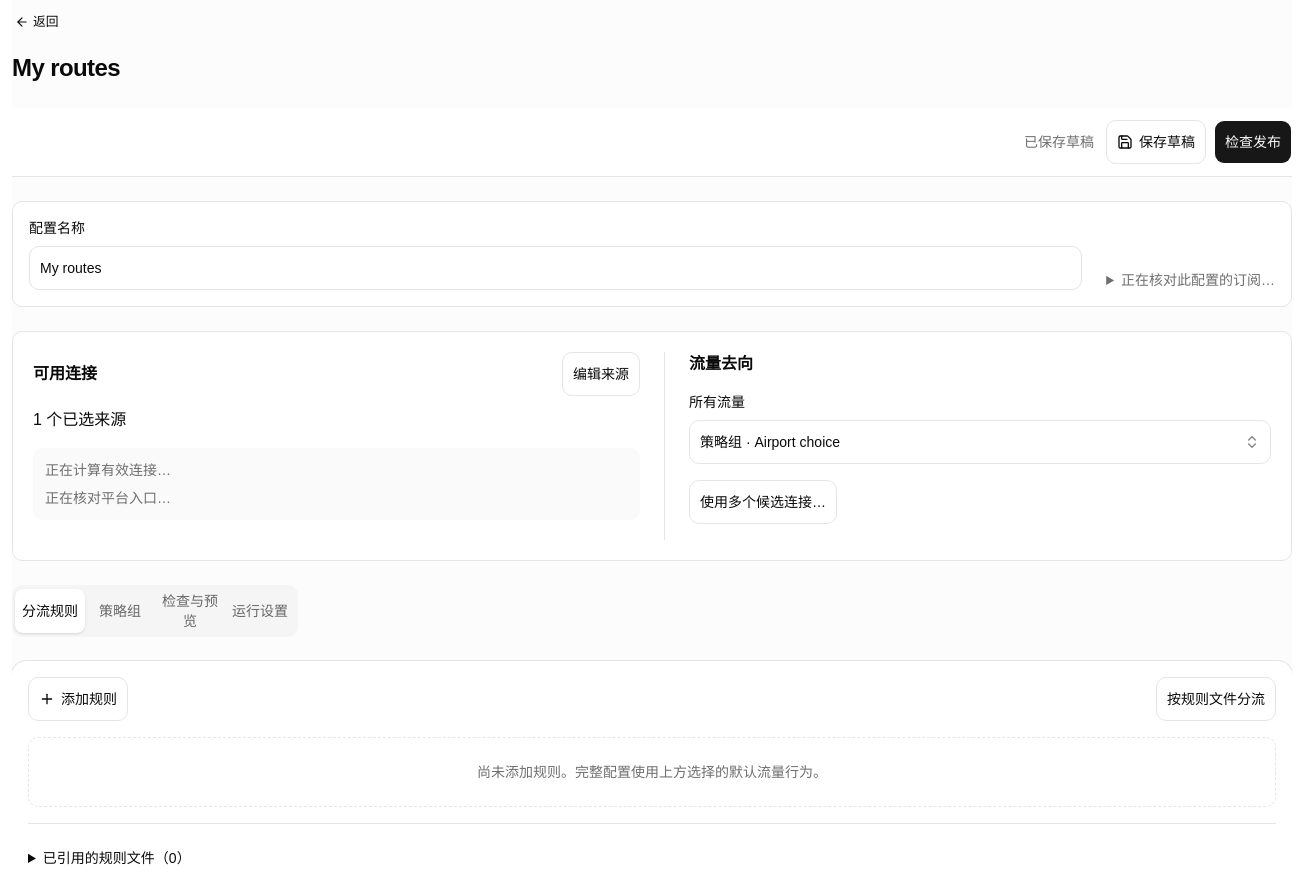
it: retains exact fixed references and independent policy parameters while toggling automatic members
Press the mouse on the tab "策略组" at (120, 611), box [85, 589, 155, 633]
(page scrolled)
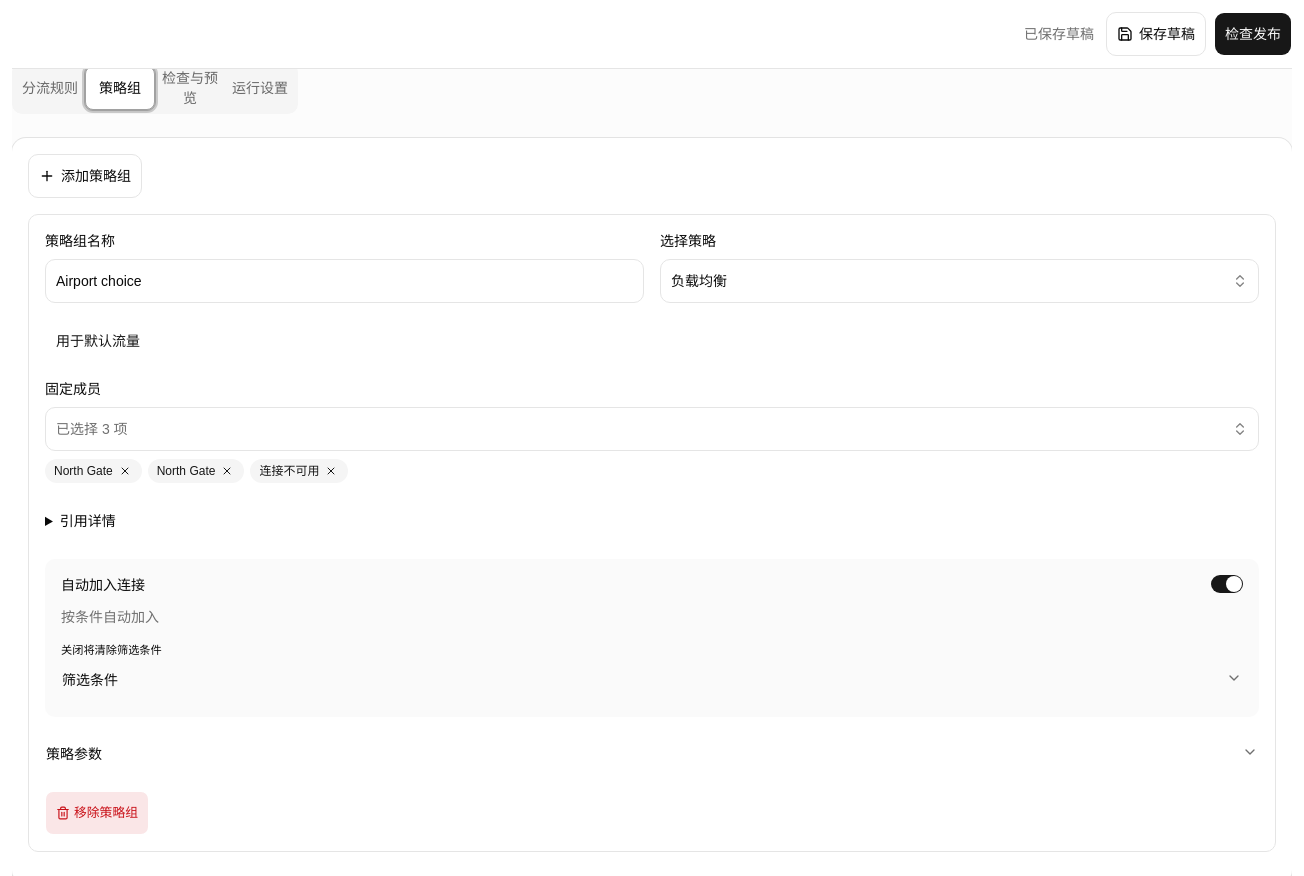
Click the switch named "自动加入连接" at (1227, 584), box [1211, 575, 1243, 593]
(page scrolled)
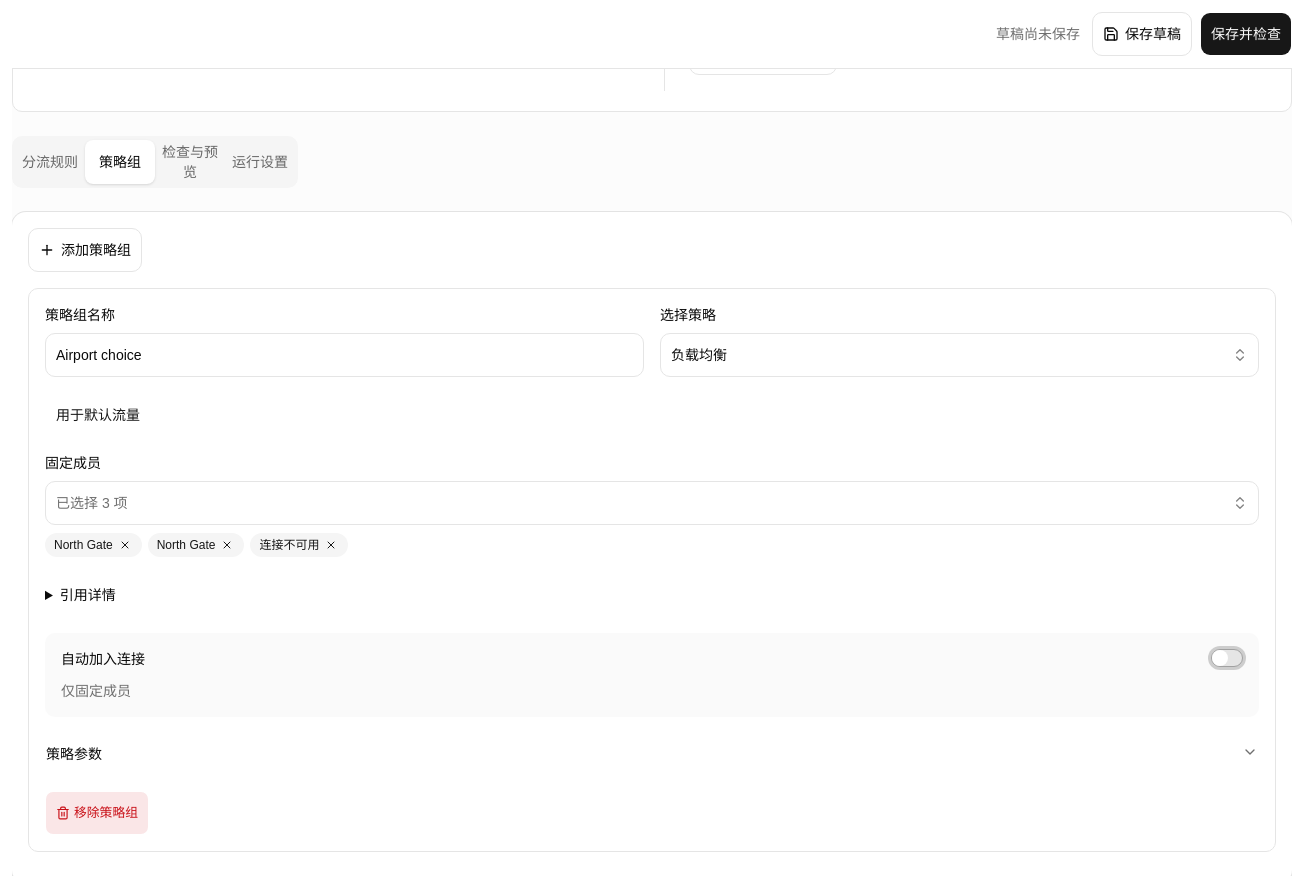
Click the button "策略参数" at (74, 754), box [45, 733, 1259, 775]
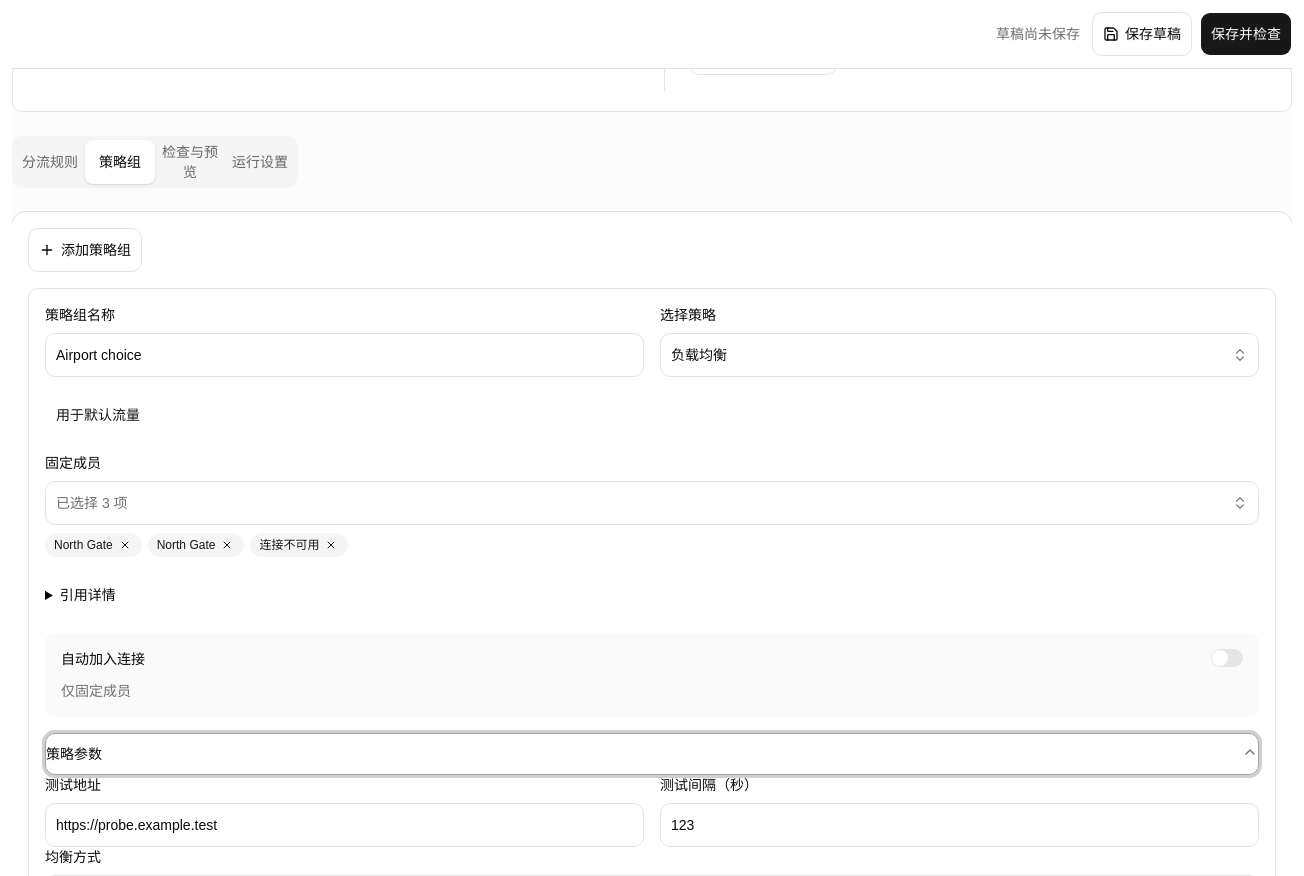
Expected: the field labelled "测试地址" holds "https://probe.example.test", [45, 803, 644, 847]
Click the button "保存草稿" at (1142, 34), box [1092, 12, 1192, 56]
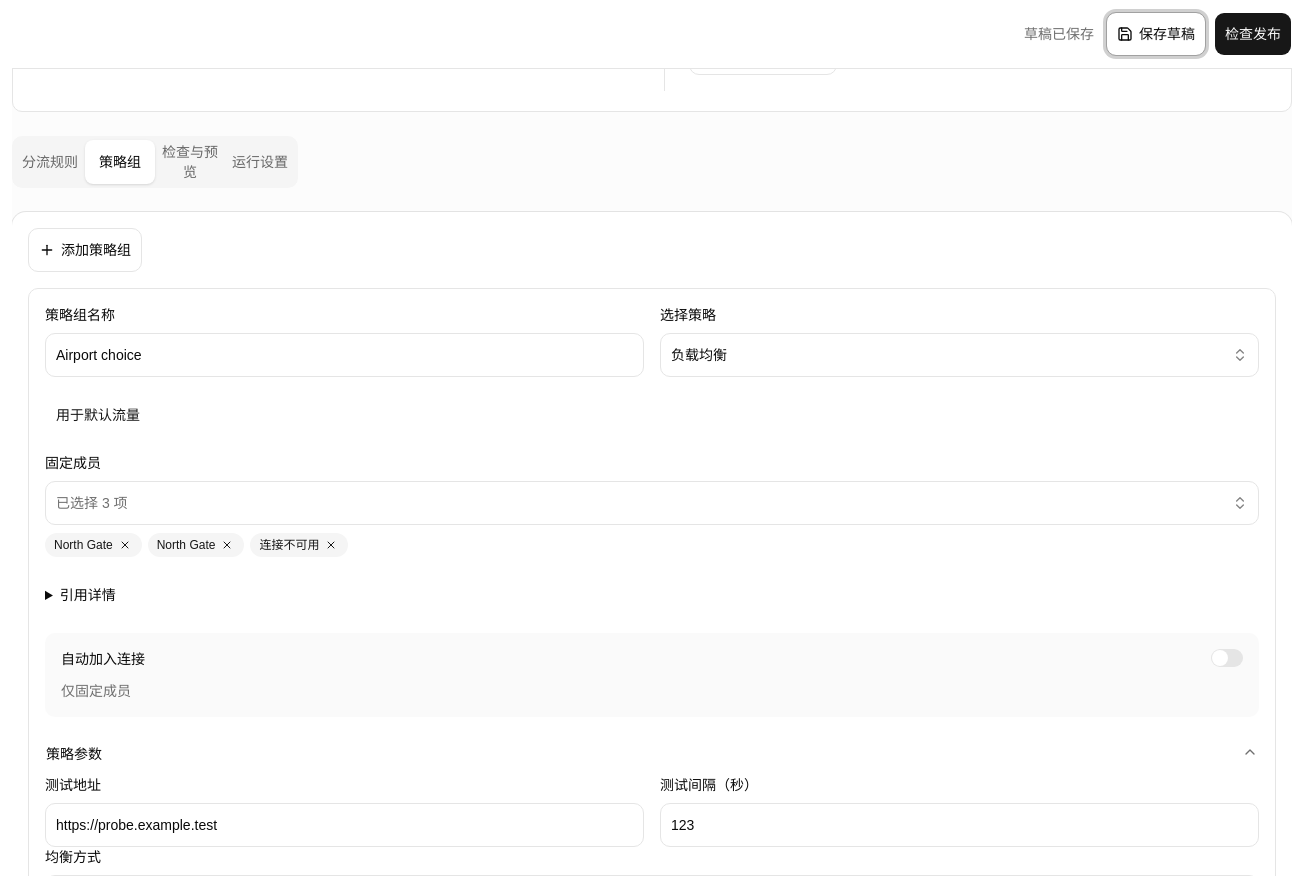
Expected: the text "草稿已保存" is shown, [1024, 24, 1094, 44]
